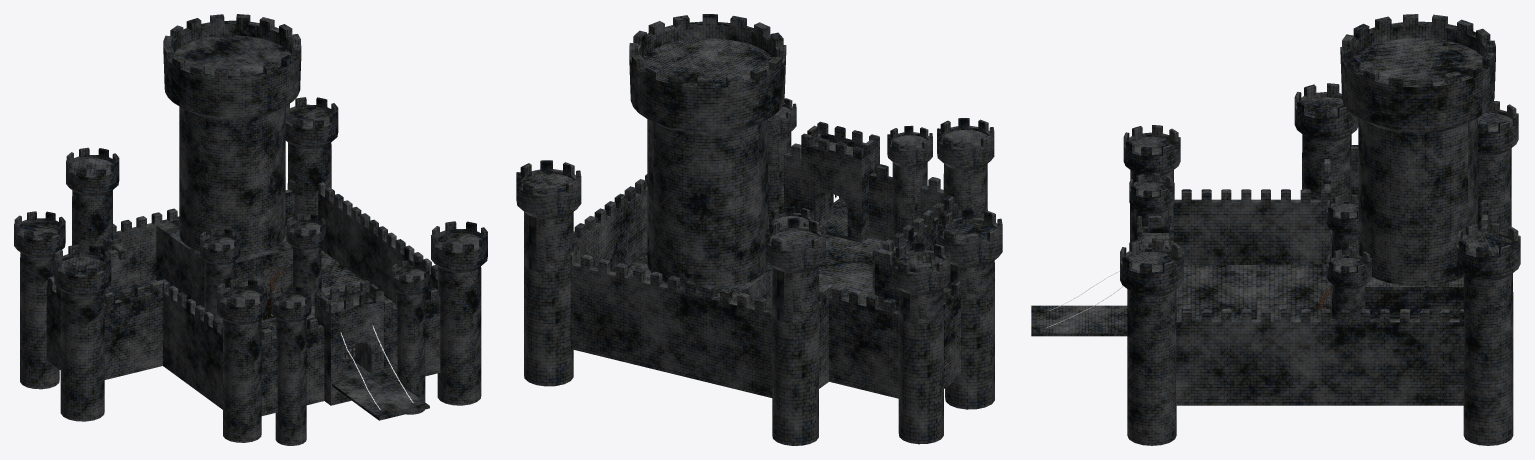
File: SM_Castle.fbx
The picture shows the model from 3 angles, left to right: view 1: azimuth 30°, elevation 25°; view 2: azimuth 150°, elevation 25°; view 3: azimuth 270°, elevation 25°; orthographic projection. The views are drawn at different scales.
Parts seen in each view (by area): view 1: Cube.061; view 2: Cube.061; view 3: Cube.061.
Boxes of the visible parts, x1,y1,x2,y2 form: Cube.061: (14,14,487,445); Cube.061: (516,14,1002,445); Cube.061: (1031,14,1520,445).
Bounding box in the file's own units: 20332 × 16432 × 22003.
